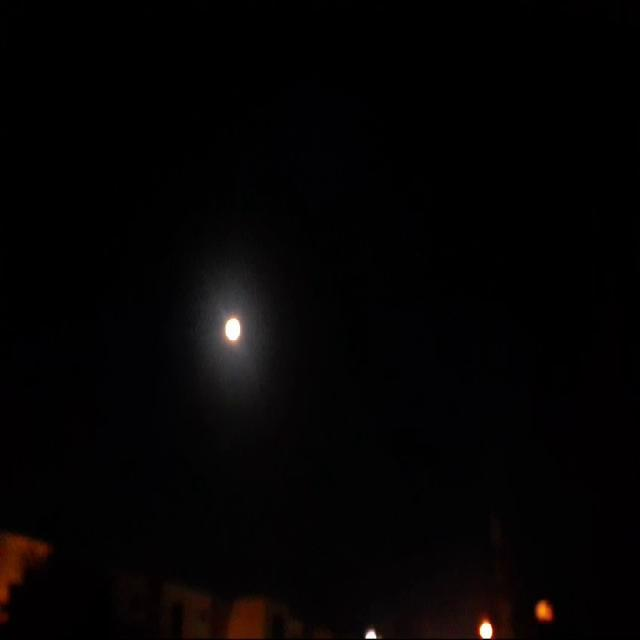moon: (210, 308, 232, 348)
